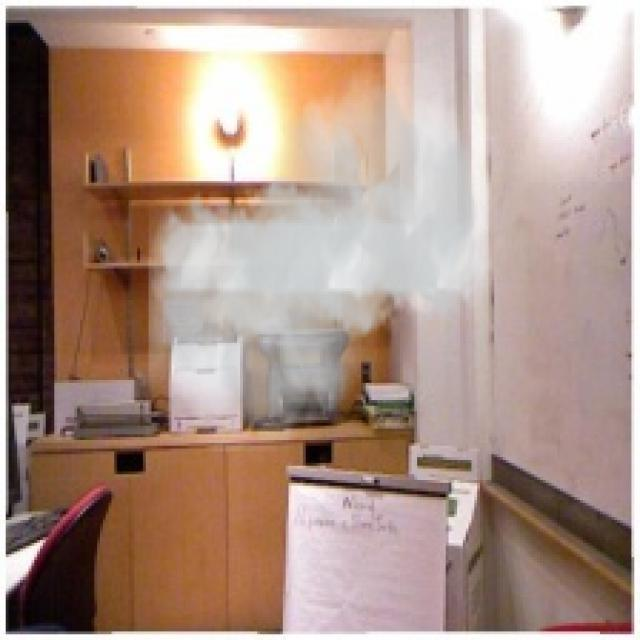Smoke: (148, 62, 492, 452)
